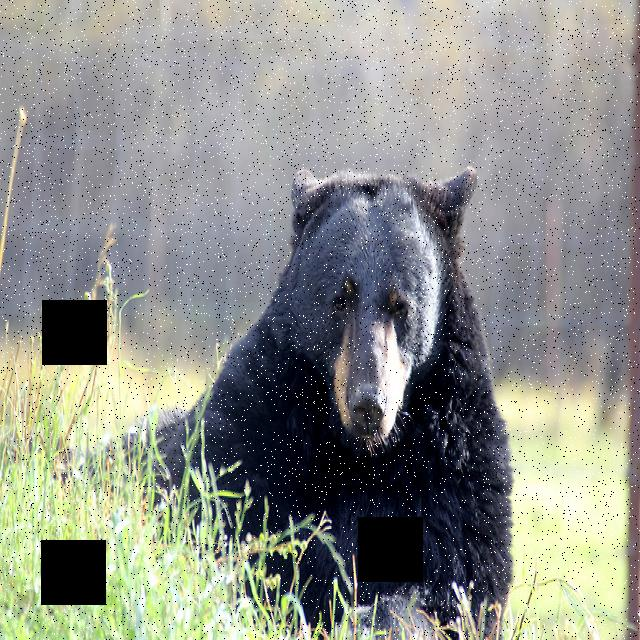Bear: (75, 173, 527, 640)
